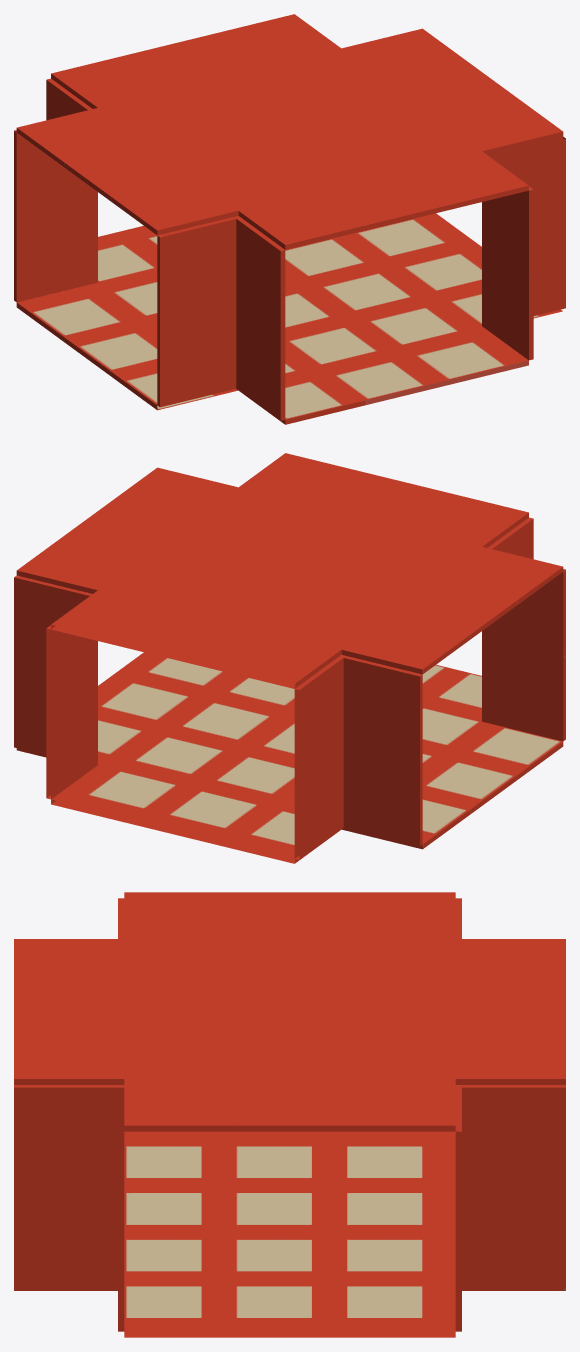
Rendered from CorredorX.fbx.
3 renders of one model, top to bottom at view 1: azimuth 30°, elevation 25°; view 2: azimuth 150°, elevation 25°; view 3: azimuth 270°, elevation 25°, orthographic. The views are drawn at different scales.
Visible parts, largest first — view 1: ConexaoX; view 2: ConexaoX; view 3: ConexaoX.
Part boxes in pixels (x1,y1,x2,y2): ConexaoX: (14, 14, 565, 424); ConexaoX: (14, 453, 565, 863); ConexaoX: (14, 892, 565, 1337).
Bounding box in the file's own units: 1000 × 423 × 1000.
